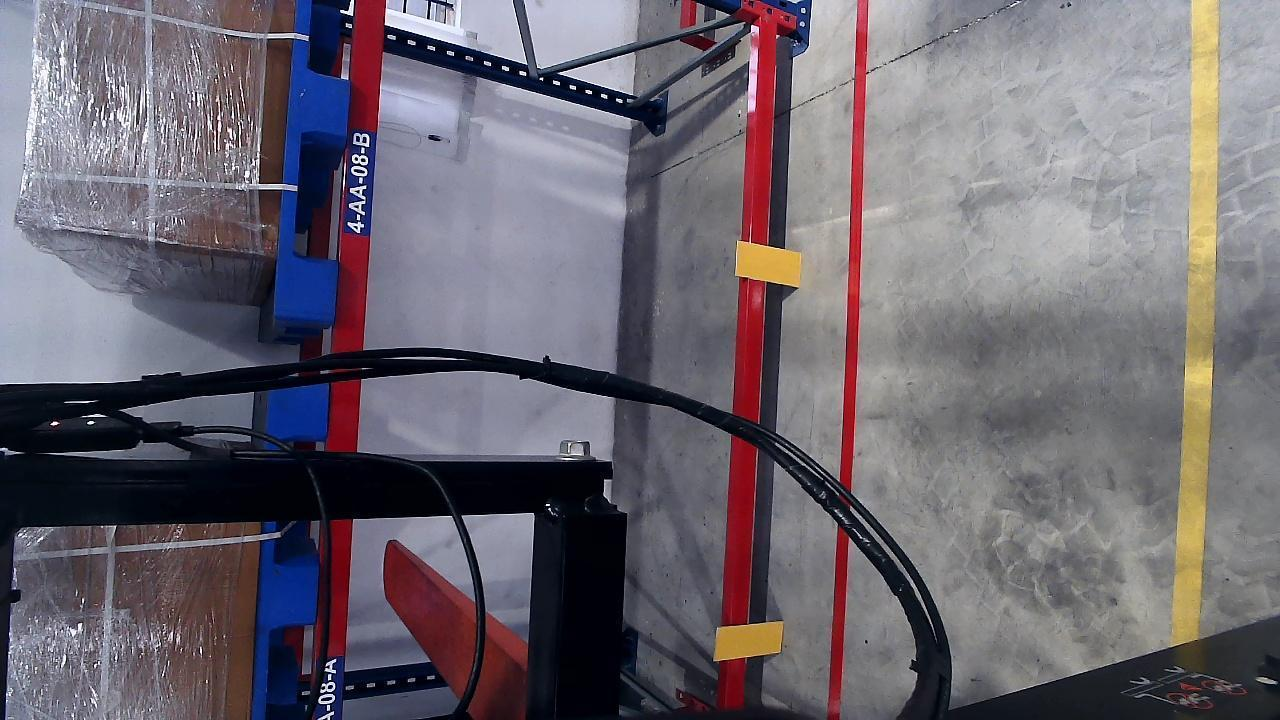red_line: (830, 5, 864, 700)
yellow_line: (1171, 5, 1221, 655)
